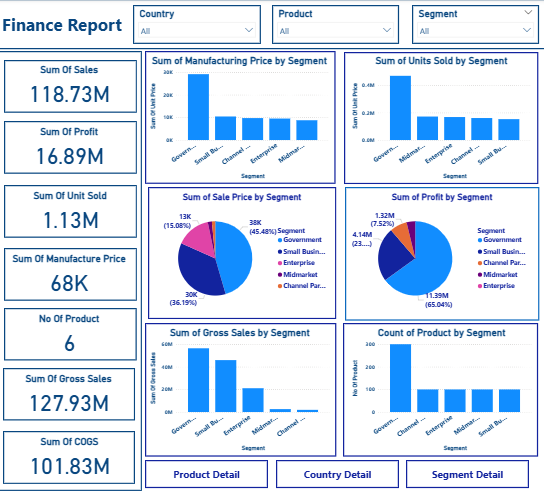

The page's visual inventory and layout, read from the dashboard file:
{"tool":"powerbi","page":{"name":"Finance","canvas":[1337,1200],"ordinal":0},"visuals":[{"type":"shape","box":[0,0,1337,122.5],"z":0},{"type":"slicer","fields":{"Values":["financials.Country"]},"box":[329.3,14.6,312.2,95.1],"z":1000},{"type":"slicer","fields":{"Values":["financials.Product"]},"box":[668.3,14.6,309.8,95.1],"z":2000},{"type":"slicer","fields":{"Values":["financials.Segment"]},"box":[1009.8,14.6,309.8,95.1],"z":3000},{"type":"shape","box":[0,126.8,351.2,1073.2],"z":4000},{"type":"shape","box":[13.7,147.6,324.4,128.7],"z":5000},{"type":"card","title":"Sum Of Sales","fields":{"Values":["Sum(financials.Sales)"]},"box":[29.2,157.9,288.4,106.4],"z":6000},{"type":"shape","box":[13.7,297,324.4,128.7],"z":7000},{"type":"card","title":"Sum Of Profit","fields":{"Values":["Sum(financials.Profit)"]},"box":[29.2,309,288.4,106.4],"z":8000},{"type":"shape","box":[13.7,453.2,324.4,128.7],"z":9000},{"type":"shape","box":[13.7,607.7,324.4,128.7],"z":10000},{"type":"card","title":"Sum Of Unit Sold","fields":{"Values":["Sum(financials.Units Sold)"]},"box":[32.6,465.2,288.4,106.4],"z":11000},{"type":"card","title":"Sum Of Manufacture Price","fields":{"Values":["Sum(financials.Manufacturing Price)"]},"box":[29.2,619.7,288.4,106.4],"z":12000},{"type":"shape","box":[14.6,753.7,323.8,128],"z":13000},{"type":"card","title":"No Of Product","fields":{"Values":["Count(financials.Product)"]},"box":[29.3,764.6,289,106.1],"z":14000},{"type":"shape","box":[12.8,900.6,322.3,128],"z":15000},{"type":"card","title":"Sum Of Gross Sales","fields":{"Values":["Sum(financials.Gross Sales)"]},"box":[27.7,911.3,290.2,106.7],"z":16000},{"type":"shape","box":[12.2,1053.7,322,129.3],"z":17000},{"type":"card","title":"Sum Of COGS","fields":{"Values":["Sum(financials.COGS)"]},"box":[29.3,1065.9,290.2,104.9],"z":18000},{"type":"shape","box":[358.5,126.8,465.9,326.8],"z":19000},{"type":"columnChart","title":"Count of Units  by Product","fields":{"Category":["financials.Product"],"Y":["CountNonNull(financials.Units Sold)"]},"box":[365,137.5,450,307.5],"z":20000},{"type":"shape","box":[842.5,127.5,477.5,325],"z":21000},{"type":"columnChart","fields":{"Category":["financials.Product"],"Y":["Sum(financials.Units Sold)"]},"box":[850,137.5,455,307.5],"z":22000},{"type":"shape","box":[359.3,457.4,466.7,325.9],"z":23000},{"type":"shape","box":[842.6,455.6,477.8,327.8],"z":24000},{"type":"pieChart","fields":{"Category":["financials.Product"],"Y":["Sum(financials.Sale Price)"]},"box":[377.8,464.8,437,313],"z":25000},{"type":"pieChart","fields":{"Category":["financials.Product"],"Y":["Sum(financials.Profit)"]},"box":[859.3,463,437,313],"z":26000},{"type":"shape","box":[840.7,790.7,477.8,327.8],"z":27000},{"type":"shape","box":[359.3,790.7,464.8,327.8],"z":28000},{"type":"columnChart","title":"Manufacture Price  by Product","fields":{"Category":["financials.Product"],"Y":["Sum(financials.Manufacturing Price)"]},"box":[366.7,801.9,450,307.4],"z":29000},{"type":"columnChart","title":"Gross Sales  by Product","fields":{"Category":["financials.Product"],"Y":["Sum(financials.Gross Sales)"]},"box":[853.7,801.9,450,307.4],"z":30000},{"type":"shape","box":[359.3,1124.1,300,68.5],"z":31000},{"type":"shape","box":[677.8,1124.1,300,68.5],"z":32000},{"type":"shape","box":[996.3,1124.1,300,68.5],"z":33000}]}

Visuals, with their boxes in screenshot pixels (x1, y1, x2, y2), scaled from the page's 1337x1200 canvas onto the 544x491 screenshot:
shape: <bbox>0, 0, 543, 50</bbox>
slicer - financials.Country: <bbox>134, 6, 261, 45</bbox>
slicer - financials.Product: <bbox>272, 6, 398, 45</bbox>
slicer - financials.Segment: <bbox>411, 6, 537, 45</bbox>
shape: <bbox>0, 52, 143, 490</bbox>
shape: <bbox>6, 60, 138, 113</bbox>
"Sum Of Sales" card: <bbox>12, 65, 129, 108</bbox>
shape: <bbox>6, 122, 138, 174</bbox>
"Sum Of Profit" card: <bbox>12, 126, 129, 170</bbox>
shape: <bbox>6, 185, 138, 238</bbox>
shape: <bbox>6, 249, 138, 301</bbox>
"Sum Of Unit Sold" card: <bbox>13, 190, 131, 234</bbox>
"Sum Of Manufacture Price" card: <bbox>12, 254, 129, 297</bbox>
shape: <bbox>6, 308, 138, 361</bbox>
"No Of Product" card: <bbox>12, 313, 130, 356</bbox>
shape: <bbox>5, 368, 136, 421</bbox>
"Sum Of Gross Sales" card: <bbox>11, 373, 129, 417</bbox>
shape: <bbox>5, 431, 136, 484</bbox>
"Sum Of COGS" card: <bbox>12, 436, 130, 479</bbox>
shape: <bbox>146, 52, 335, 186</bbox>
"Count of Units  by Product" columnChart: <bbox>149, 56, 332, 182</bbox>
shape: <bbox>343, 52, 537, 185</bbox>
columnChart - financials.Product x Sum(financials.Units Sold): <bbox>346, 56, 531, 182</bbox>
shape: <bbox>146, 187, 336, 321</bbox>
shape: <bbox>343, 186, 537, 321</bbox>
pieChart - financials.Product x Sum(financials.Sale Price): <bbox>154, 190, 332, 318</bbox>
pieChart - financials.Product x Sum(financials.Profit): <bbox>350, 189, 527, 318</bbox>
shape: <bbox>342, 324, 536, 458</bbox>
shape: <bbox>146, 324, 335, 458</bbox>
"Manufacture Price  by Product" columnChart: <bbox>149, 328, 332, 454</bbox>
"Gross Sales  by Product" columnChart: <bbox>347, 328, 530, 454</bbox>
shape: <bbox>146, 460, 268, 488</bbox>
shape: <bbox>276, 460, 398, 488</bbox>
shape: <bbox>405, 460, 527, 488</bbox>
